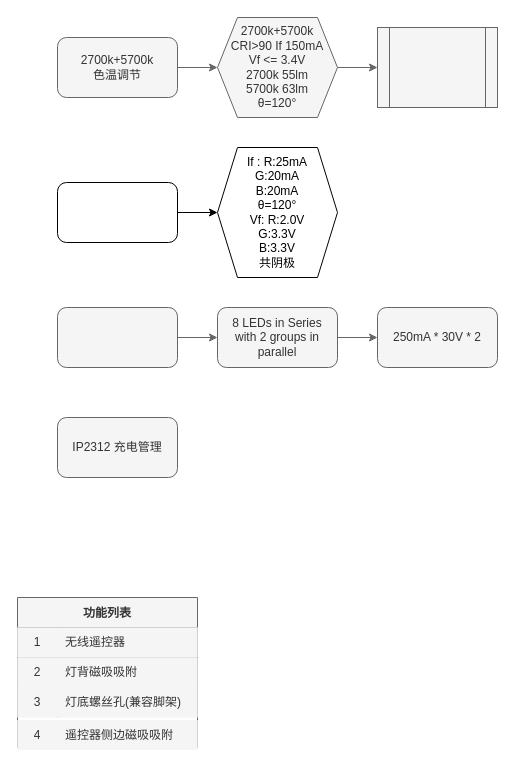
This 515x768 diagram has some shape labels left out. Here are the shapes that lost their labels. From the top down, the box of each, then its label:
(376, 26, 498, 108): 单颗灯珠满功率 0.15*3.3V=0.5W (16+16)0.5=16W @ 约1800lm
(56, 182, 178, 242): RGB HSI调节
(56, 306, 178, 368): LED驱动 RY3730 2组
